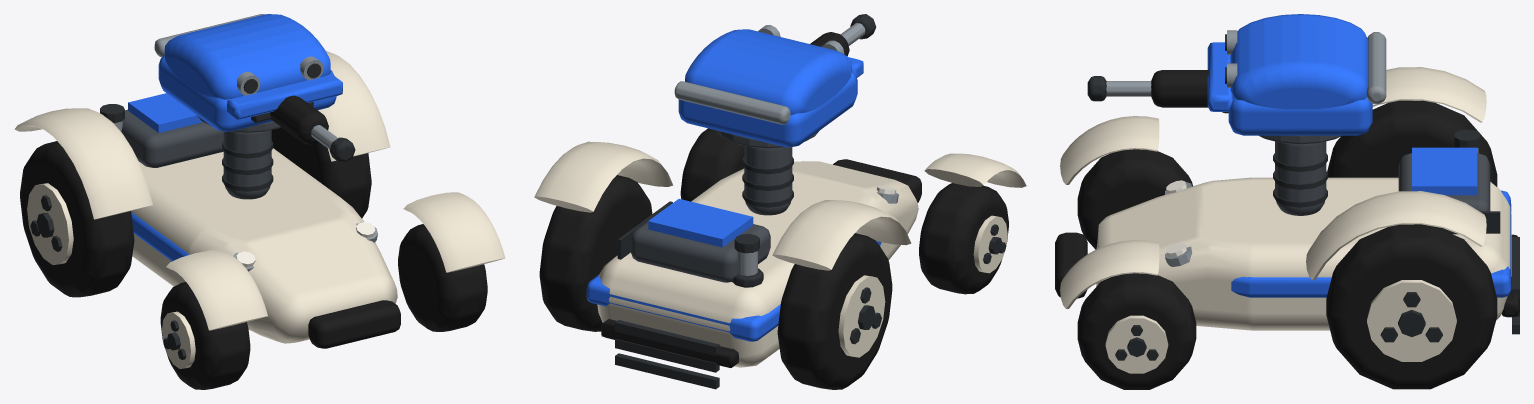
Rendered from scout_buggy.glb.
The picture shows the model from 3 angles, left to right: view 1: azimuth 30°, elevation 25°; view 2: azimuth 150°, elevation 25°; view 3: azimuth 270°, elevation 25°; orthographic projection. The views are drawn at different scales.
Parts seen in each view (by area): view 1: hull__M_CreamPlastic, turret__M_Team, wheel_r1__M_Licorice, wing_r1__M_CreamPlastic, hull__M_SmokePlastic, wheel_l0__M_Licorice, steer_l0__M_CreamPlastic, wheel_r0__M_Licorice, steer_r0__M_CreamPlastic, wing_l1__M_CreamPlastic, wheel_l1__M_Licorice, hull__M_Licorice (+11 smaller); view 2: hull__M_CreamPlastic, turret__M_Team, wheel_r1__M_Licorice, wheel_l1__M_Licorice, hull__M_SmokePlastic, wheel_r0__M_Licorice, wing_l1__M_CreamPlastic, wing_r1__M_CreamPlastic, hull__M_Team, hull__M_Dark, wheel_l0__M_Licorice, turret__M_SpringSteel (+8 smaller); view 3: hull__M_CreamPlastic, turret__M_Team, wheel_l1__M_Licorice, wheel_l0__M_Licorice, wheel_r1__M_Licorice, wing_l1__M_CreamPlastic, hull__M_Team, wheel_r0__M_Licorice, hull__M_SmokePlastic, wheel_l1__M_CreamPlastic, wing_r1__M_CreamPlastic, steer_l0__M_CreamPlastic (+12 smaller).
Boxes of the visible parts, x1,y1,x2,y2 form: hull__M_CreamPlastic: [131, 148, 397, 343]; turret__M_Team: [158, 14, 342, 131]; wheel_r1__M_Licorice: [20, 141, 134, 297]; wing_r1__M_CreamPlastic: [14, 108, 152, 219]; hull__M_SmokePlastic: [121, 109, 280, 199]; wheel_l0__M_Licorice: [398, 224, 487, 331]; steer_l0__M_CreamPlastic: [403, 192, 505, 272]; wheel_r0__M_Licorice: [160, 282, 250, 389]; steer_r0__M_CreamPlastic: [166, 250, 267, 330]; wing_l1__M_CreamPlastic: [318, 51, 390, 161]; wheel_l1__M_Licorice: [271, 127, 371, 218]; hull__M_Licorice: [308, 300, 400, 348]; hull__M_CreamPlastic: [597, 161, 918, 367]; turret__M_Team: [678, 29, 863, 147]; wheel_r1__M_Licorice: [777, 233, 892, 389]; wheel_l1__M_Licorice: [539, 175, 652, 331]; hull__M_SmokePlastic: [630, 130, 819, 282]; wheel_r0__M_Licorice: [919, 183, 1008, 294]; wing_l1__M_CreamPlastic: [534, 141, 673, 212]; wing_r1__M_CreamPlastic: [772, 200, 911, 270]; hull__M_Team: [586, 199, 881, 341]; hull__M_Dark: [615, 156, 793, 389]; wheel_l0__M_Licorice: [680, 128, 744, 201]; turret__M_SpringSteel: [674, 25, 844, 124]; hull__M_CreamPlastic: [1096, 177, 1511, 330]; turret__M_Team: [1207, 14, 1372, 135]; wheel_l1__M_Licorice: [1326, 224, 1497, 389]; wheel_l0__M_Licorice: [1077, 273, 1196, 389]; wheel_r1__M_Licorice: [1327, 100, 1497, 186]; wing_l1__M_CreamPlastic: [1306, 191, 1486, 280]; hull__M_Team: [1231, 147, 1511, 297]; wheel_r0__M_Licorice: [1077, 149, 1192, 249]; hull__M_SmokePlastic: [1259, 135, 1490, 234]; wheel_l1__M_CreamPlastic: [1367, 280, 1456, 361]; wing_r1__M_CreamPlastic: [1372, 67, 1486, 122]; steer_l0__M_CreamPlastic: [1060, 240, 1159, 308].
Bounding box in the file's own units: 0.576 × 0.4782 × 0.71.
